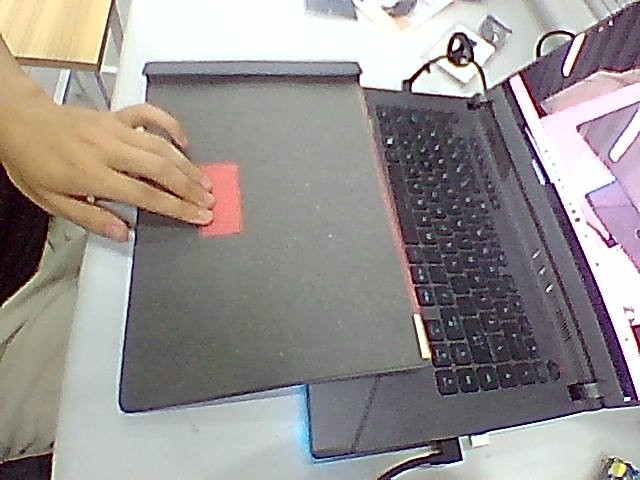card: (200, 163, 242, 236)
